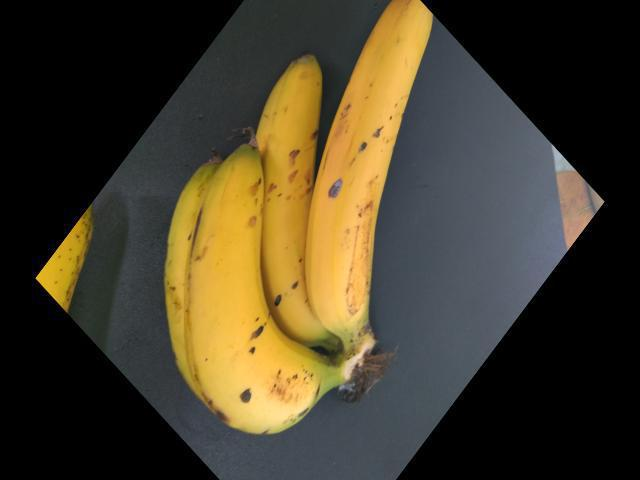ripe: (182, 151, 356, 427), (324, 0, 437, 357), (248, 52, 330, 354)
